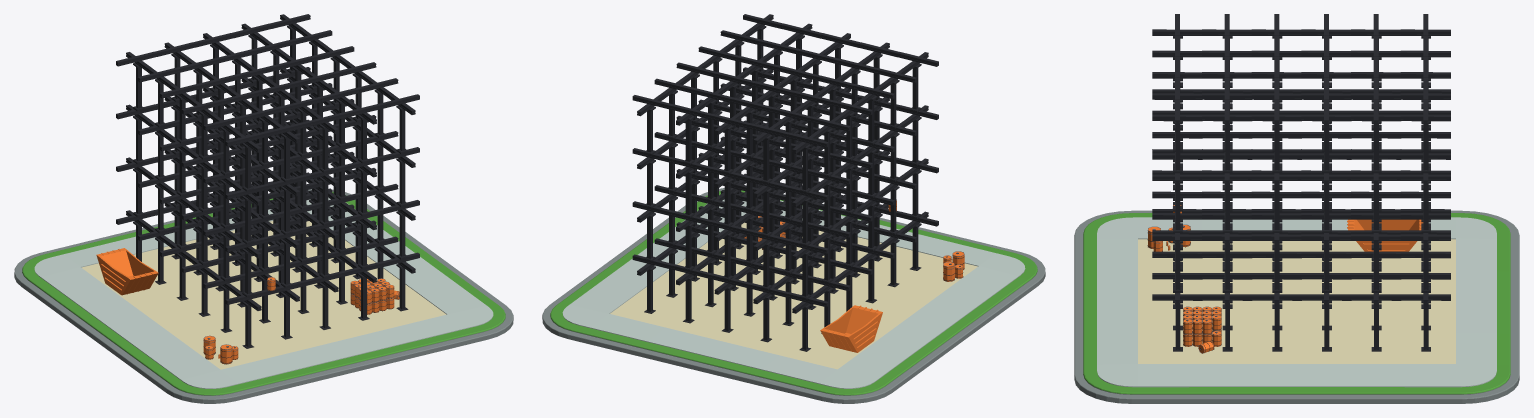
Rendered from ConstructionSite.fbx.
The picture shows the model from 3 angles, left to right: view 1: azimuth 30°, elevation 25°; view 2: azimuth 150°, elevation 25°; view 3: azimuth 270°, elevation 25°; orthographic projection. The views are drawn at different scales.
Visible parts, largest first — view 1: builidng structure, Building Construction site, construction dumpster, barrel - pile; view 2: builidng structure, Building Construction site, construction dumpster; view 3: Building Construction site, builidng structure, barrel - pile, construction dumpster.
Boxes of the visible parts, bbox=[...] form: builidng structure: bbox=[116, 14, 419, 348]; Building Construction site: bbox=[14, 189, 513, 403]; construction dumpster: bbox=[96, 248, 158, 295]; barrel - pile: bbox=[350, 278, 399, 314]; builidng structure: bbox=[632, 14, 938, 351]; Building Construction site: bbox=[542, 188, 1045, 403]; construction dumpster: bbox=[820, 305, 882, 352]; Building Construction site: bbox=[1074, 210, 1519, 403]; builidng structure: bbox=[1152, 14, 1450, 351]; barrel - pile: bbox=[1183, 306, 1221, 353]; construction dumpster: bbox=[1347, 219, 1423, 251].
Bounding box in the file's own units: 1377 × 840 × 1377.
